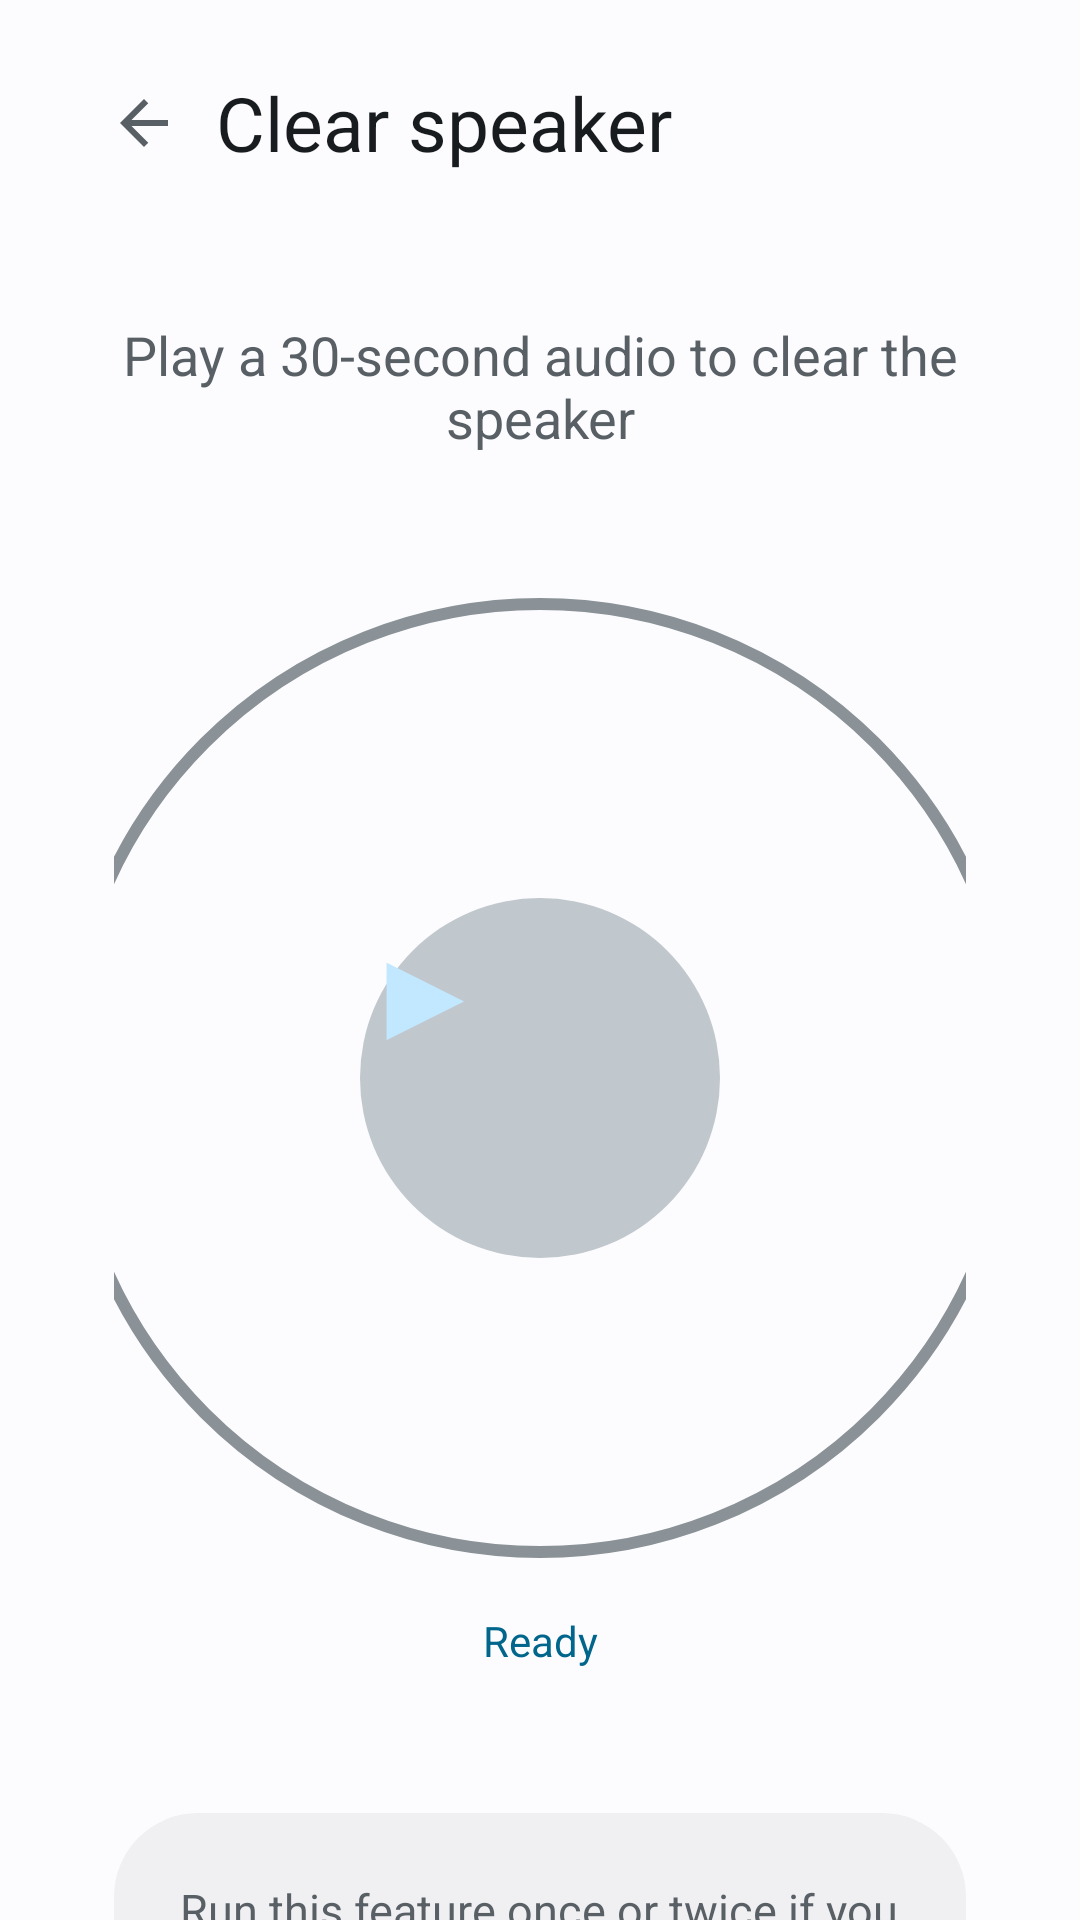

Where to tap for icons on this 1080px×1920px app screen, as [x,y]:
arrow back: [144,123]
